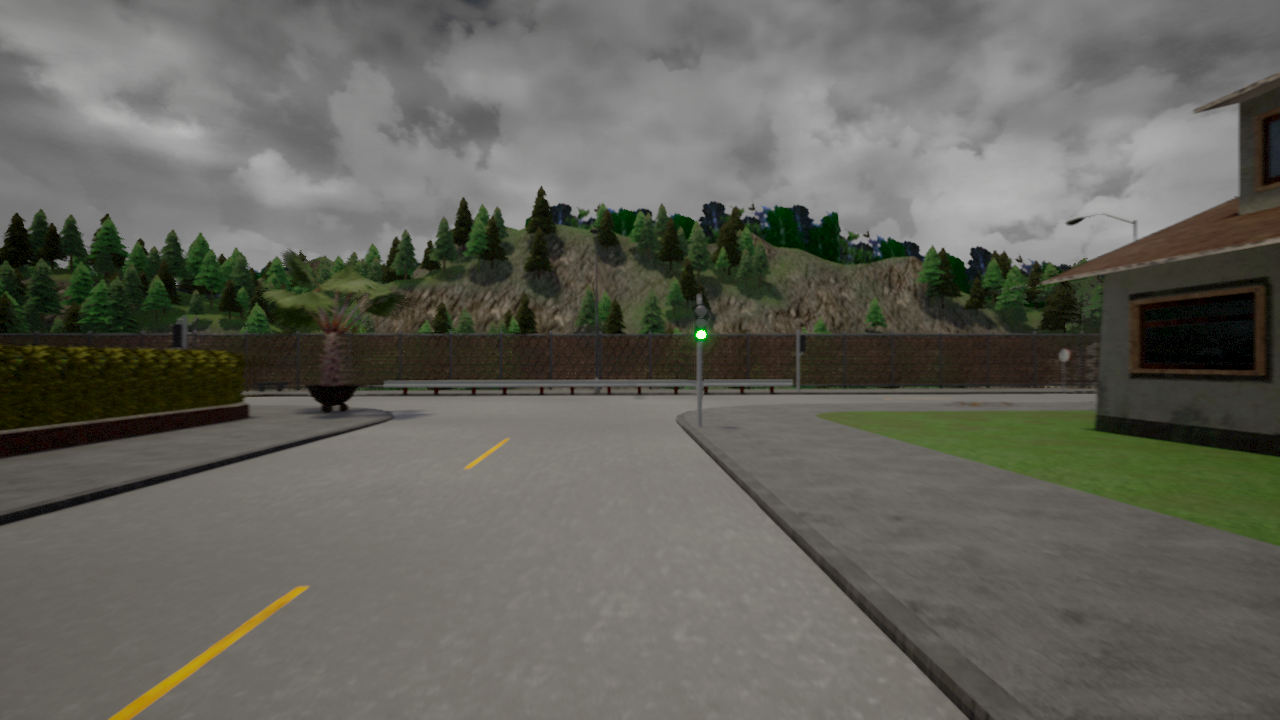green: (693, 305, 708, 341)
